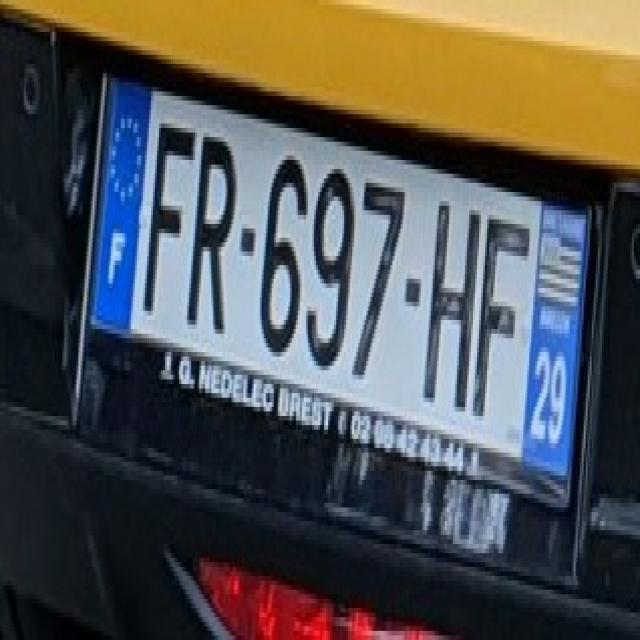EU: (82, 63, 593, 510)
France: (94, 71, 148, 334)
